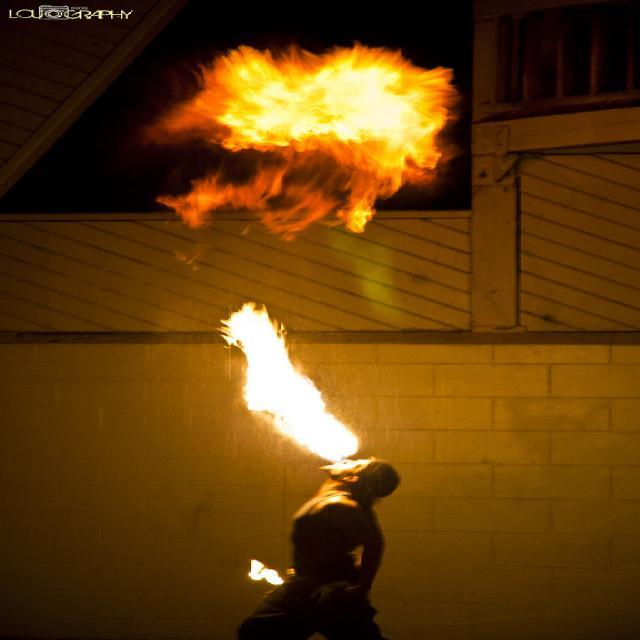Fire: (200, 45, 433, 167)
